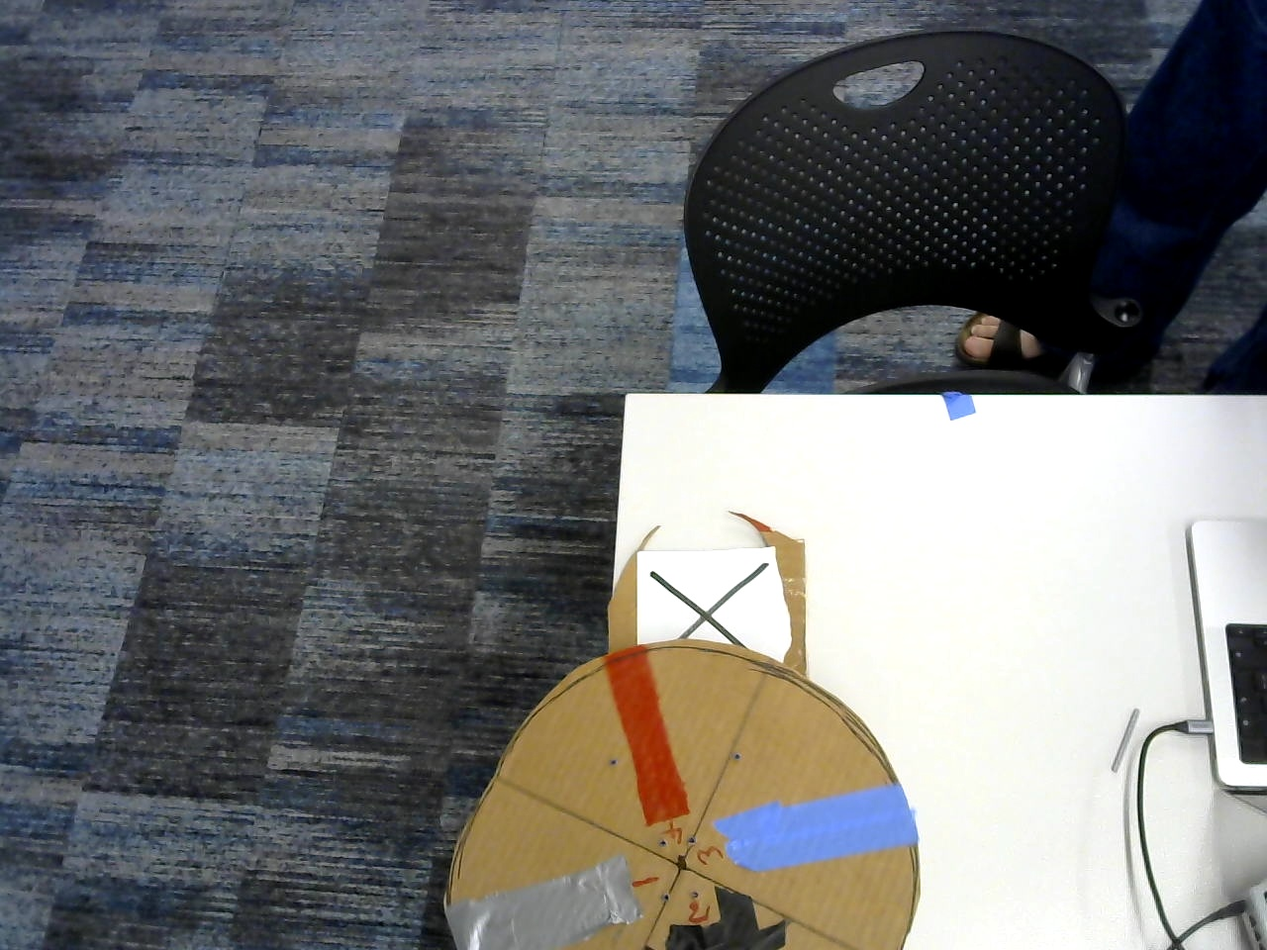black: (663, 891, 785, 950)
blue: (715, 788, 919, 872)
red: (603, 645, 691, 827)
silver: (452, 856, 647, 950)
x: (642, 555, 780, 652)
